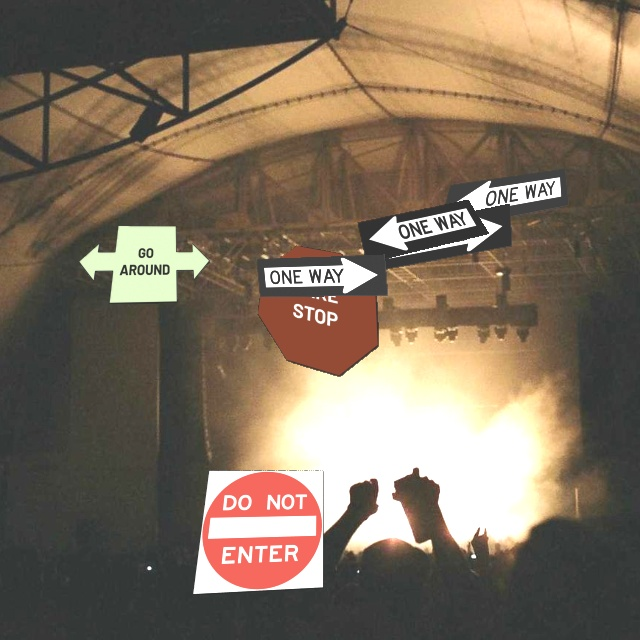DO_NOT_ENTER: (192, 470, 324, 595)
FAKE_STOP: (257, 245, 379, 377)
GO_AROUND: (78, 225, 210, 304)
ONE_WAY_ left: (357, 199, 489, 263), (437, 168, 569, 231)
ONE_WAY_ right: (380, 203, 512, 270), (256, 254, 388, 297)
